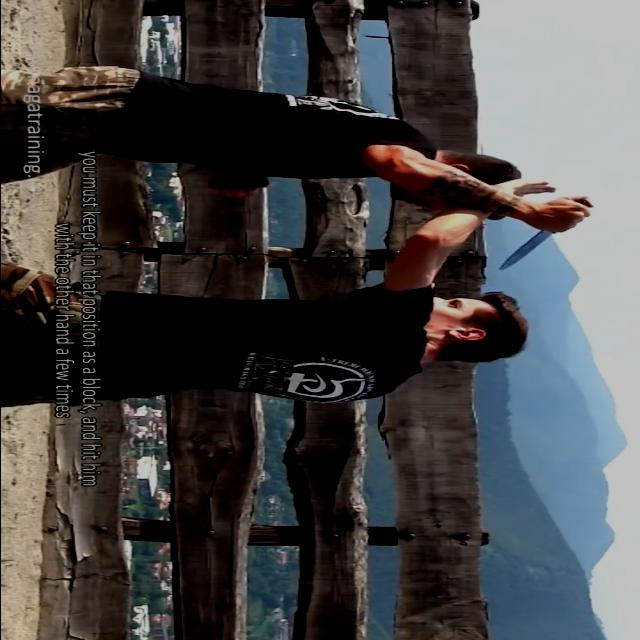knife: (494, 192, 600, 273)
